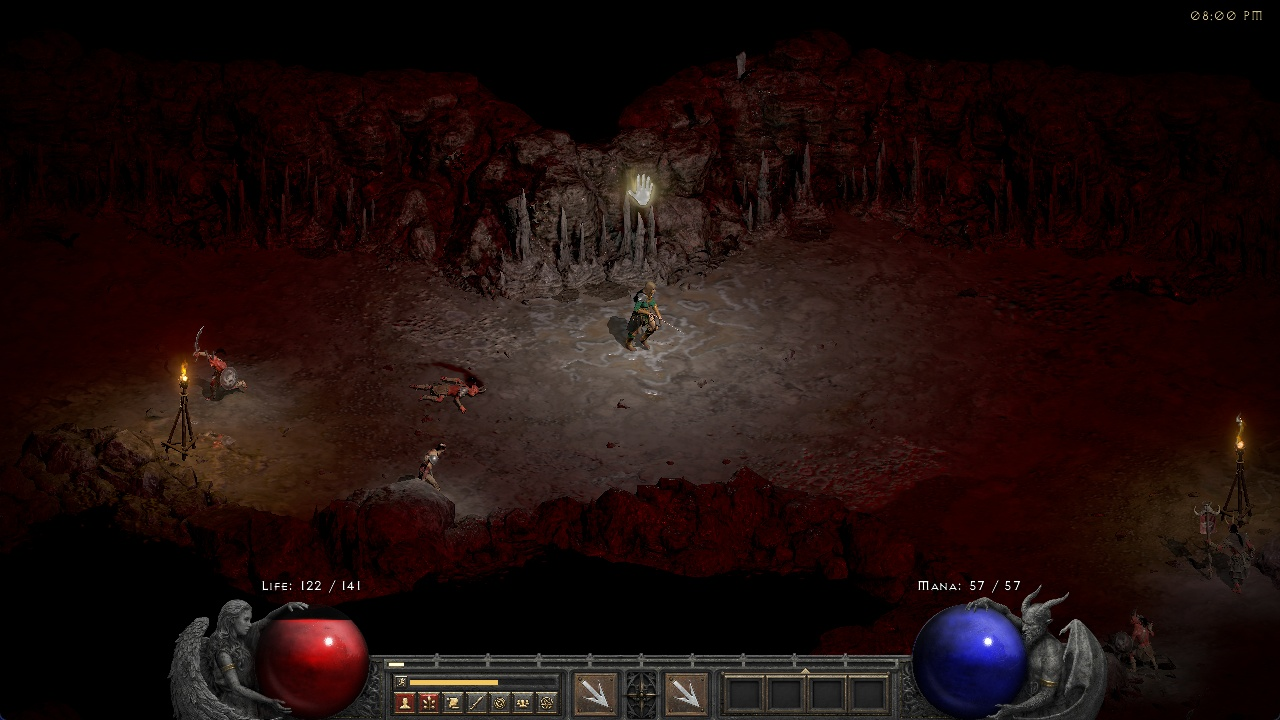fallen: (190, 323, 249, 399), (1110, 607, 1162, 672)
